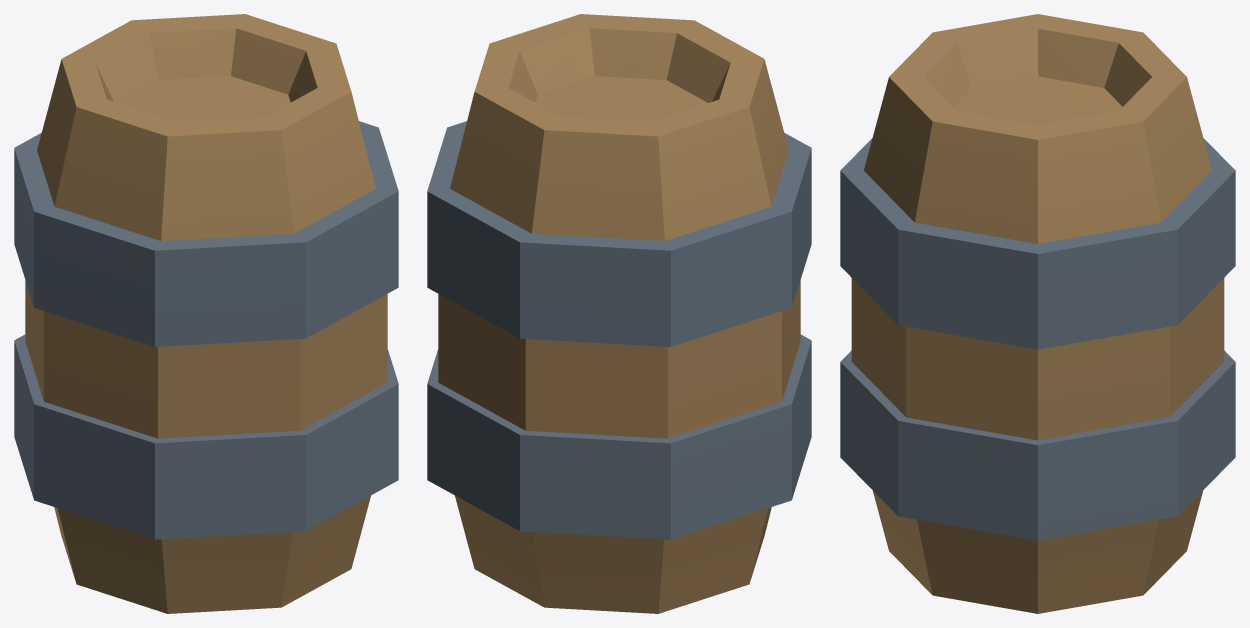
The model's file is barrel.glb.
The picture shows the model from 3 angles, left to right: view 1: azimuth 30°, elevation 25°; view 2: azimuth 150°, elevation 25°; view 3: azimuth 270°, elevation 25°; orthographic projection.
Visible parts, largest first — view 1: barrel; view 2: barrel; view 3: barrel.
Part boxes in pixels (x1=…): barrel: x1=14, y1=14, x2=398, y2=613; barrel: x1=427, y1=14, x2=811, y2=613; barrel: x1=840, y1=14, x2=1235, y2=613.
Bounding box in the file's own units: 0.68 × 0.9 × 0.68.
